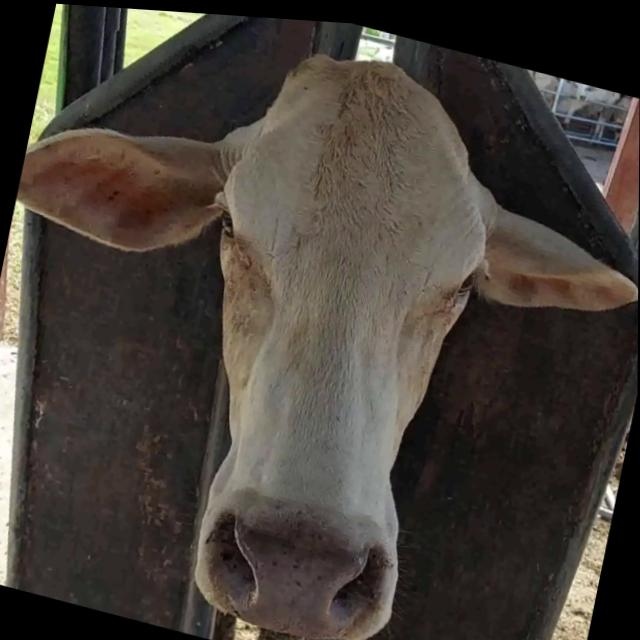cowFace: (138, 14, 525, 640)
